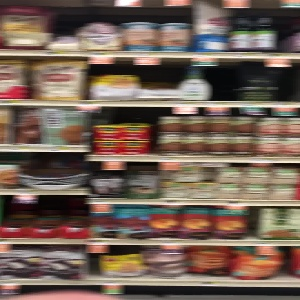void: (206, 56, 300, 103), (140, 66, 178, 102)
